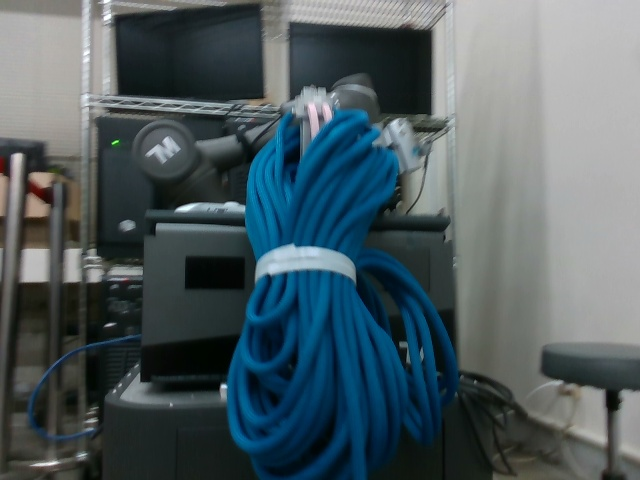rope: (221, 104, 462, 480)
